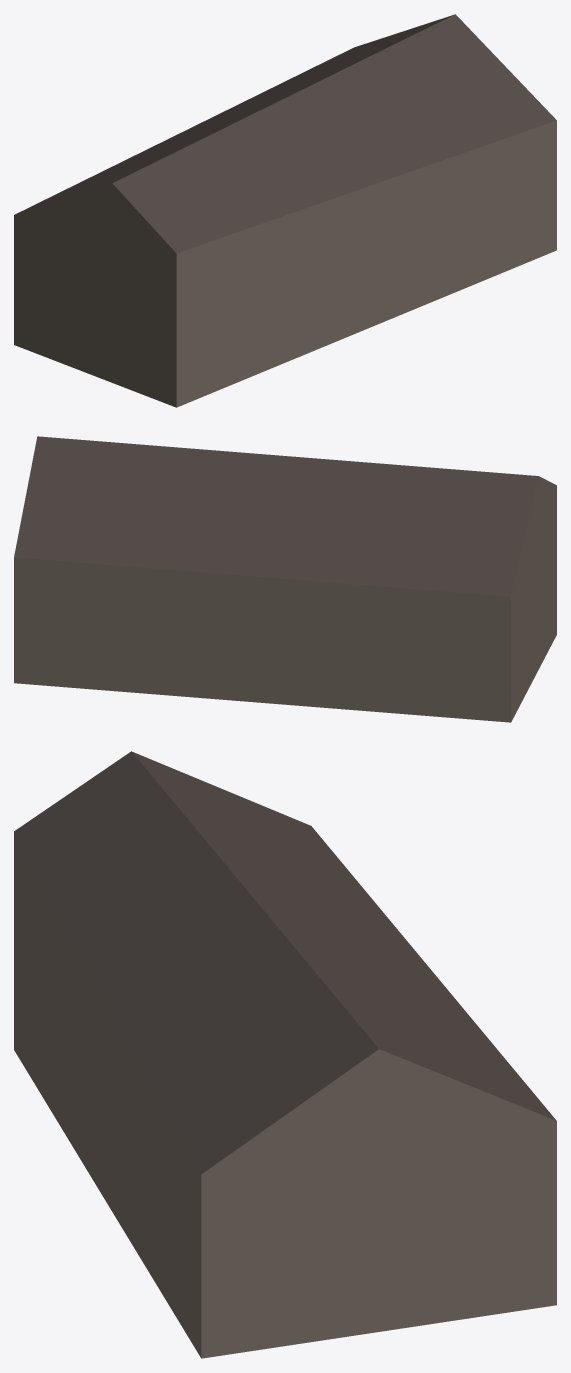
3 views of the same model, one above another, from view 1: azimuth 30°, elevation 25°; view 2: azimuth 150°, elevation 25°; view 3: azimuth 270°, elevation 25° (orthographic). The views are drawn at different scales.
Visible parts, largest first — view 1: HP-w1196661462; view 2: HP-w1196661462; view 3: HP-w1196661462.
Boxes of the visible parts, x1=… form: HP-w1196661462: x1=14, y1=14, x2=556, y2=407; HP-w1196661462: x1=14, y1=436, x2=556, y2=722; HP-w1196661462: x1=14, y1=751, x2=556, y2=1358.
Size of the model in its own units: 24.35 by 9.22 by 16.03.
